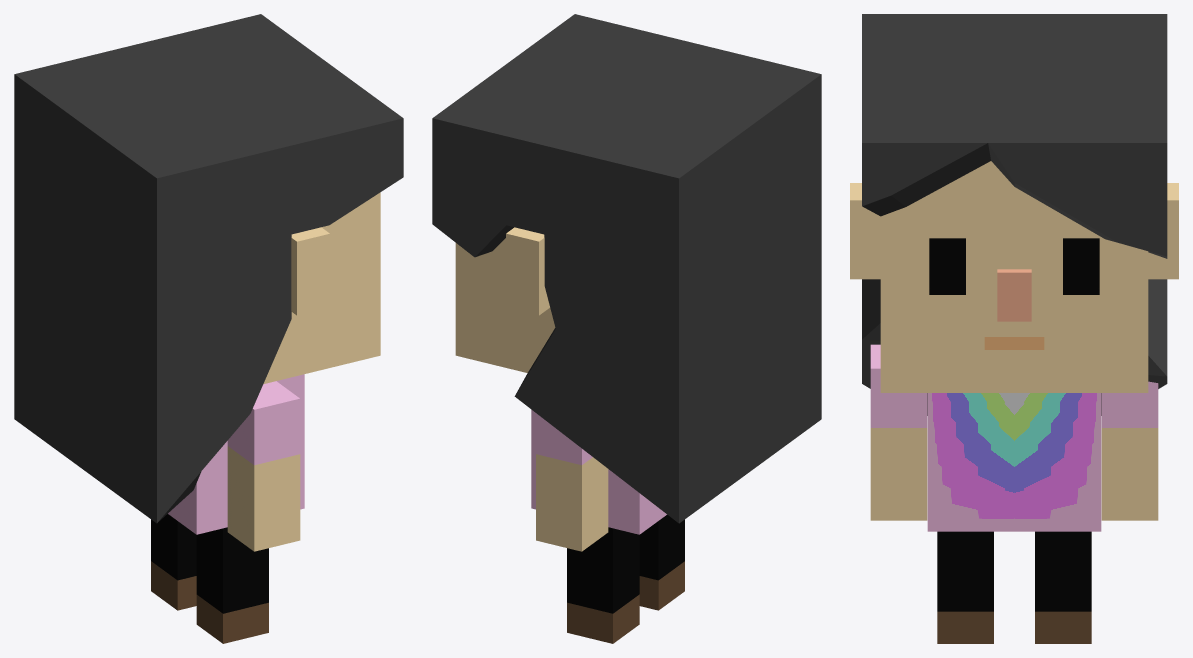
Rendered from orang_1_ungu.fbx.
3 views of the same model, side by side, from view 1: azimuth 30°, elevation 25°; view 2: azimuth 150°, elevation 25°; view 3: azimuth 270°, elevation 25° (orthographic). The views are drawn at different scales.
Parts seen in each view (by area): view 1: Human.002; view 2: Human.002; view 3: Human.002.
Boxes of the visible parts, x1,y1,x2,y2 form: Human.002: (14,14,403,643); Human.002: (432,14,821,643); Human.002: (850,14,1178,643).
Bounding box in the file's own units: 114 × 228 × 123.
Materials: 1 (1 with a texture image).
